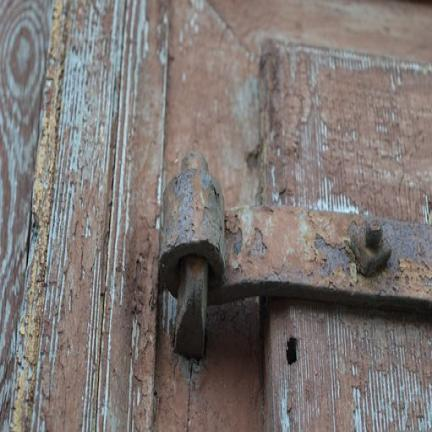karat: (208, 206, 431, 313), (160, 153, 224, 359), (351, 220, 391, 276)
